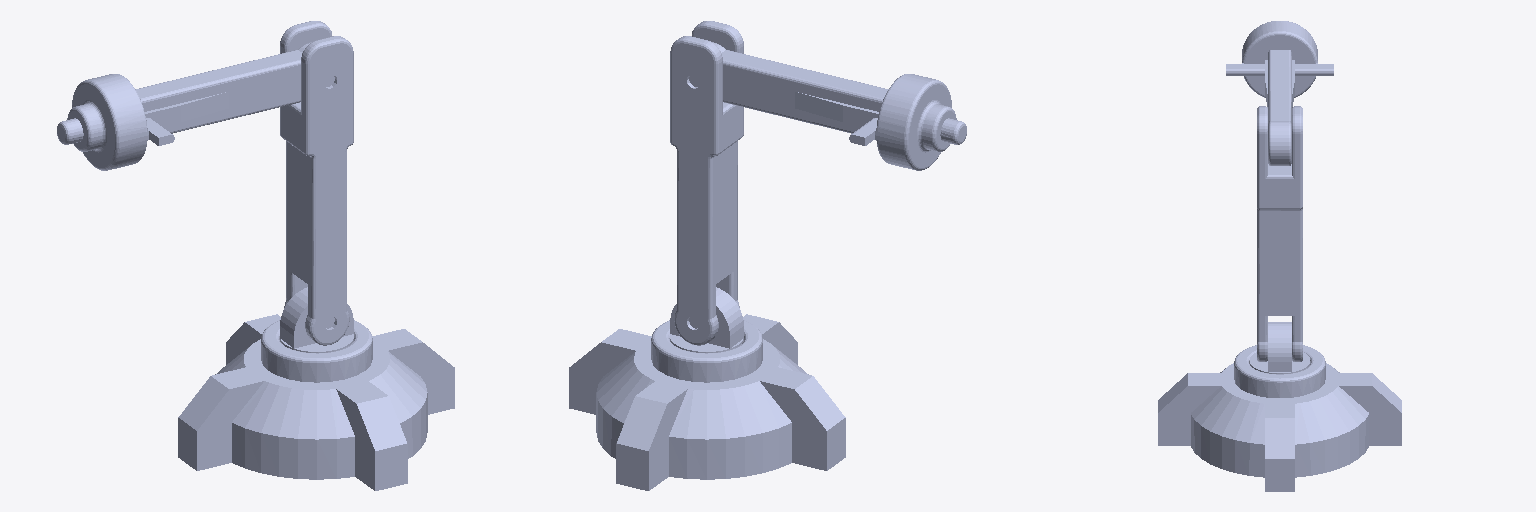
robot.urdf — Solid_URDF:
<?xml version="1.0" encoding="utf-8"?>
<!-- This URDF was automatically created by SolidWorks to URDF Exporter! Originally created by [author] ([email redacted]) 
     Commit Version: 1.6.0-1-g15f4949  Build Version: 1.6.7594.29634
     For more information, please see http://wiki.ros.org/sw_urdf_exporter -->
<robot
  name="Solid_URDF">
  <link
    name="base_link">
    <inertial>
      <origin
        xyz="8.6736E-18 -4.5379E-18 0.021134"
        rpy="0 0 0" />
      <mass
        value="0.51331" />
      <inertia
        ixx="0.00058904"
        ixy="-2.8124E-20"
        ixz="7.919E-21"
        iyy="0.00058904"
        iyz="-3.3396E-20"
        izz="0.00099809" />
    </inertial>
    <visual>
      <origin
        xyz="0 0 0"
        rpy="0 0 0" />
      <geometry>
        <mesh
          filename="package://Solid_URDF/meshes/base_link.STL" />
      </geometry>
      <material
        name="">
        <color
          rgba="0.79216 0.81961 0.93333 1" />
      </material>
    </visual>
    <collision>
      <origin
        xyz="0 0 0"
        rpy="0 0 0" />
      <geometry>
        <mesh
          filename="package://Solid_URDF/meshes/base_link.STL" />
      </geometry>
    </collision>
  </link>
  <link
    name="Link_2">
    <inertial>
      <origin
        xyz="-1.7347E-18 1.1281E-08 0.058542"
        rpy="0 0 0" />
      <mass
        value="0.029815" />
      <inertia
        ixx="5.2832E-06"
        ixy="3.0433E-23"
        ixz="1.5486E-22"
        iyy="6.1777E-06"
        iyz="-4.16E-12"
        izz="4.8276E-06" />
    </inertial>
    <visual>
      <origin
        xyz="0 0 0"
        rpy="0 0 0" />
      <geometry>
        <mesh
          filename="package://Solid_URDF/meshes/Link_2.STL" />
      </geometry>
      <material
        name="">
        <color
          rgba="0.79216 0.81961 0.93333 1" />
      </material>
    </visual>
    <collision>
      <origin
        xyz="0 0 0"
        rpy="0 0 0" />
      <geometry>
        <mesh
          filename="package://Solid_URDF/meshes/Link_2.STL" />
      </geometry>
    </collision>
  </link>
  <joint
    name="Joint_2"
    type="revolute">
    <origin
      xyz="0 0 0"
      rpy="0 0 0" />
    <parent
      link="base_link" />
    <child
      link="Link_2" />
    <axis
      xyz="0 0 1" />
    <limit
      lower="0"
      upper="3.142"
      effort="300"
      velocity="3" />
  </joint>
  <link
    name="Link_3">
    <inertial>
      <origin
        xyz="-5.2042E-18 0.081267 -7.2272E-18"
        rpy="0 0 0" />
      <mass
        value="0.10048" />
      <inertia
        ixx="0.00020942"
        ixy="2.6655E-20"
        ixz="6.393E-12"
        iyy="1.4347E-05"
        iyz="1.4686E-20"
        izz="0.00020574" />
    </inertial>
    <visual>
      <origin
        xyz="0 0 0"
        rpy="0 0 0" />
      <geometry>
        <mesh
          filename="package://Solid_URDF/meshes/Link_3.STL" />
      </geometry>
      <material
        name="">
        <color
          rgba="0.79216 0.81961 0.93333 1" />
      </material>
    </visual>
    <collision>
      <origin
        xyz="0 0 0"
        rpy="0 0 0" />
      <geometry>
        <mesh
          filename="package://Solid_URDF/meshes/Link_3.STL" />
      </geometry>
    </collision>
  </link>
  <joint
    name="Joint_3"
    type="revolute">
    <origin
      xyz="0 0 0.07091"
      rpy="1.5708 0 0" />
    <parent
      link="Link_2" />
    <child
      link="Link_3" />
    <axis
      xyz="0 0 -1" />
    <limit
      lower="-1.57"
      upper="1.57"
      effort="200"
      velocity="3" />
  </joint>
  <link
    name="Link_4">
    <inertial>
      <origin
        xyz="-0.065014 -0.0125 -4.8132E-07"
        rpy="0 0 0" />
      <mass
        value="0.060766" />
      <inertia
        ixx="4.2232E-06"
        ixy="2.4803E-14"
        ixz="-1.0882E-09"
        iyy="0.00013388"
        iyz="8.1538E-12"
        izz="0.00013578" />
    </inertial>
    <visual>
      <origin
        xyz="0 0 0"
        rpy="0 0 0" />
      <geometry>
        <mesh
          filename="package://Solid_URDF/meshes/Link_4.STL" />
      </geometry>
      <material
        name="">
        <color
          rgba="0.79216 0.81961 0.93333 1" />
      </material>
    </visual>
    <collision>
      <origin
        xyz="0 0 0"
        rpy="0 0 0" />
      <geometry>
        <mesh
          filename="package://Solid_URDF/meshes/Link_4.STL" />
      </geometry>
    </collision>
  </link>
  <joint
    name="Joint_4"
    type="revolute">
    <origin
      xyz="0 0.1555 0"
      rpy="0 0 0" />
    <parent
      link="Link_3" />
    <child
      link="Link_4" />
    <axis
      xyz="0 0 1" />
    <limit
      lower="0"
      upper="3.142"
      effort="200"
      velocity="3" />
  </joint>
  <link
    name="Link_5">
    <inertial>
      <origin
        xyz="1.9965E-18 1.1102E-16 0.019929"
        rpy="0 0 0" />
      <mass
        value="0.046012" />
      <inertia
        ixx="9.1204E-06"
        ixy="-4.4171E-16"
        ixz="-8.9824E-22"
        iyy="1.0499E-05"
        iyz="8.8543E-22"
        izz="1.3863E-05" />
    </inertial>
    <visual>
      <origin
        xyz="0 0 0"
        rpy="0 0 0" />
      <geometry>
        <mesh
          filename="package://Solid_URDF/meshes/Link_5.STL" />
      </geometry>
      <material
        name="">
        <color
          rgba="0.79216 0.81961 0.93333 1" />
      </material>
    </visual>
    <collision>
      <origin
        xyz="0 0 0"
        rpy="0 0 0" />
      <geometry>
        <mesh
          filename="package://Solid_URDF/meshes/Link_5.STL" />
      </geometry>
    </collision>
  </link>
  <joint
    name="Joint_5"
    type="revolute">
    <origin
      xyz="-0.1483 -0.0125 0"
      rpy="3.1416 -1.5708 0" />
    <parent
      link="Link_4" />
    <child
      link="Link_5" />
    <axis
      xyz="0 0 1" />
    <limit
      lower="0"
      upper="3.142"
      effort="200"
      velocity="3" />
  </joint>
  <link
    name="Link_6">
    <inertial>
      <origin
        xyz="0.0039759 -0.0025 0.043169"
        rpy="0 0 0" />
      <mass
        value="0.0082022" />
      <inertia
        ixx="7.8318E-06"
        ixy="4.0409E-23"
        ixz="2.5719E-07"
        iyy="7.8154E-06"
        iyz="-1.4296E-21"
        izz="1.2643E-07" />
    </inertial>
    <visual>
      <origin
        xyz="0 0 0"
        rpy="0 0 0" />
      <geometry>
        <mesh
          filename="package://Solid_URDF/meshes/Link_6.STL" />
      </geometry>
      <material
        name="">
        <color
          rgba="0.79216 0.81961 0.93333 1" />
      </material>
    </visual>
    <collision>
      <origin
        xyz="0 0 0"
        rpy="0 0 0" />
      <geometry>
        <mesh
          filename="package://Solid_URDF/meshes/Link_6.STL" />
      </geometry>
    </collision>
  </link>
  <joint
    name="Joint_6"
    type="prismatic">
    <origin
      xyz="0 0.0025 0.038"
      rpy="0 0 0" />
    <parent
      link="Link_5" />
    <child
      link="Link_6" />
    <axis
      xyz="-1 0 0" />
    <limit
      lower="0"
      upper="0.03"
      effort="100"
      velocity="3" />
  </joint>
  <link
    name="Link_7">
    <inertial>
      <origin
        xyz="-0.0039759 -0.0025 0.043169"
        rpy="0 0 0" />
      <mass
        value="0.0082022" />
      <inertia
        ixx="7.8318E-06"
        ixy="-3.1846E-23"
        ixz="-2.5719E-07"
        iyy="7.8154E-06"
        iyz="-1.5325E-21"
        izz="1.2643E-07" />
    </inertial>
    <visual>
      <origin
        xyz="0 0 0"
        rpy="0 0 0" />
      <geometry>
        <mesh
          filename="package://Solid_URDF/meshes/Link_7.STL" />
      </geometry>
      <material
        name="">
        <color
          rgba="0.79216 0.81961 0.93333 1" />
      </material>
    </visual>
    <collision>
      <origin
        xyz="0 0 0"
        rpy="0 0 0" />
      <geometry>
        <mesh
          filename="package://Solid_URDF/meshes/Link_7.STL" />
      </geometry>
    </collision>
  </link>
  <joint
    name="Joint_7"
    type="prismatic">
    <origin
      xyz="0 0.0025 0.038"
      rpy="0 0 0" />
    <parent
      link="Link_5" />
    <child
      link="Link_7" />
    <axis
      xyz="-1 0 0" />
    <limit
      lower="-0.03"
      upper="0"
      effort="100"
      velocity="3" />
  </joint>
</robot>

--- Render facts (derived) ---
3 views of the same robot in one strip: view 1: azimuth 30°, elevation 25°; view 2: azimuth 150°, elevation 25°; view 3: azimuth 270°, elevation 25° (orthographic).
Robot: Solid_URDF — 7 links, 6 joints (4 revolute, 2 prismatic); root link base_link; default pose: every joint at zero.
Visible links, largest first — view 1: base_link, Link_3, Link_4, Link_5, Link_2, Link_6; view 2: base_link, Link_3, Link_4, Link_5, Link_2, Link_7; view 3: base_link, Link_3, Link_5, Link_4, Link_2.
Link boxes in pixels (box(x1,y1,x2,y2)): base_link: box(178, 314, 454, 490); Link_3: box(280, 21, 353, 345); Link_4: box(57, 42, 334, 144); Link_5: box(67, 74, 174, 170); Link_2: box(280, 287, 353, 352); Link_6: box(145, 92, 228, 126); base_link: box(569, 314, 845, 490); Link_3: box(670, 21, 743, 345); Link_4: box(689, 42, 966, 144); Link_5: box(849, 74, 956, 170); Link_2: box(670, 287, 743, 352); Link_7: box(795, 92, 878, 126); base_link: box(1158, 345, 1401, 491); Link_3: box(1257, 106, 1302, 361); Link_5: box(1226, 21, 1333, 97); Link_4: box(1268, 50, 1291, 165); Link_2: box(1249, 322, 1310, 373).
Size in the robot's own frame: 0.2383 by 0.16 by 0.2389 metres.
Meshes: 7 distinct files referenced, 7 mesh visuals loaded (7 binary STL).